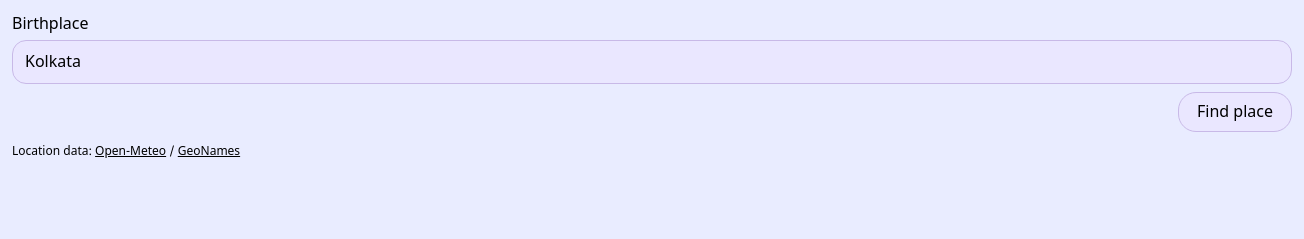
reports empty results and allows retry after network failure
Click the button "Find place". click: (1235,112)
box: [1178,92,1292,132]
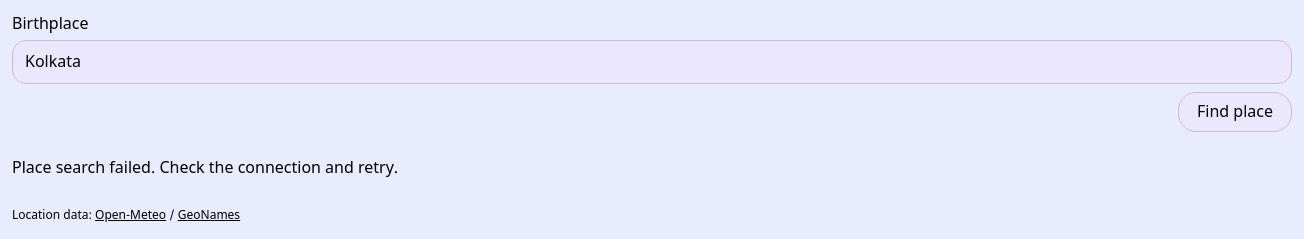
Now the text "Place search failed. Check the connection and retry." is shown, box [12,158,398,180]
Click the button "Find place". click: (1235,112)
box: [1178,92,1292,132]
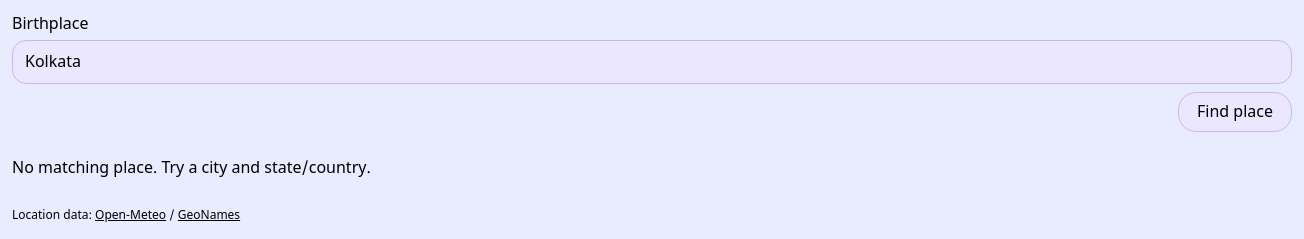
Now the text "No matching place. Try a city and state/country." is shown, box [12,158,371,180]
